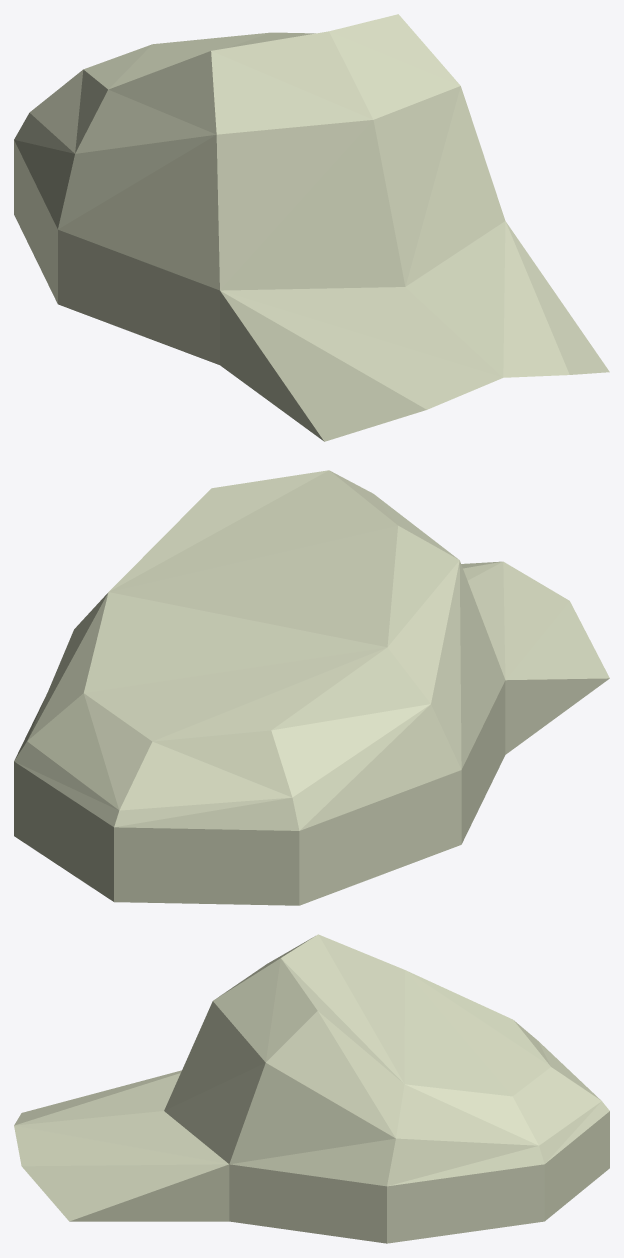
Rendered from BotHat.fbx.
3 views of the same model, one above another, from view 1: azimuth 30°, elevation 25°; view 2: azimuth 150°, elevation 25°; view 3: azimuth 270°, elevation 25° (orthographic). The views are drawn at different scales.
Parts seen in each view (by area): view 1: Mesh1; view 2: Mesh1; view 3: Mesh1.
Boxes of the visible parts, x1,y1,x2,y2 form: Mesh1: (14, 14, 609, 441); Mesh1: (14, 470, 609, 905); Mesh1: (14, 934, 609, 1243).
Size of the model in its own units: 0.8 by 0.5199 by 1.34.
